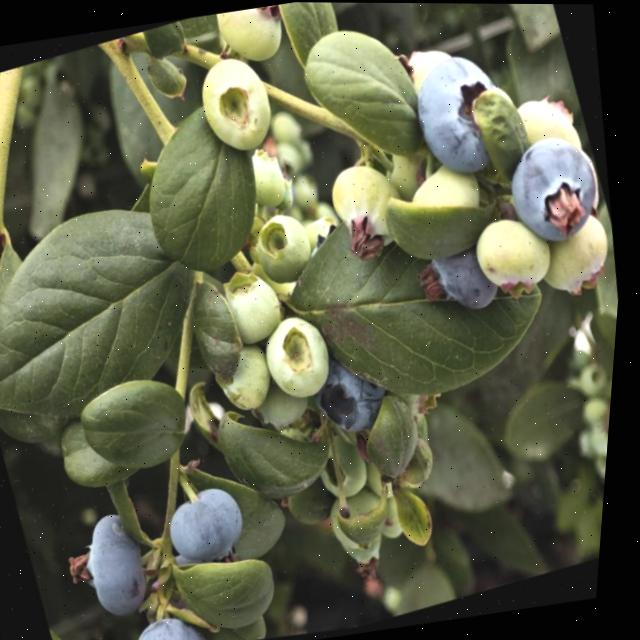RipeBlueBerry: (495, 125, 618, 253), (57, 506, 171, 634), (400, 51, 501, 185), (163, 478, 265, 580), (318, 358, 392, 440), (133, 605, 223, 640)
UnripeBlueBerry: (188, 47, 288, 161), (321, 152, 420, 264), (468, 204, 570, 309), (257, 308, 349, 409), (217, 260, 296, 353), (250, 206, 326, 290)
